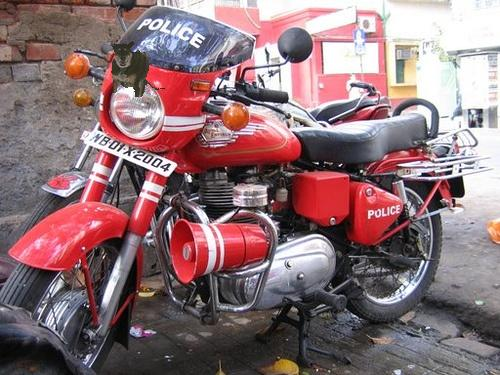tampered: (111, 42, 165, 97)
